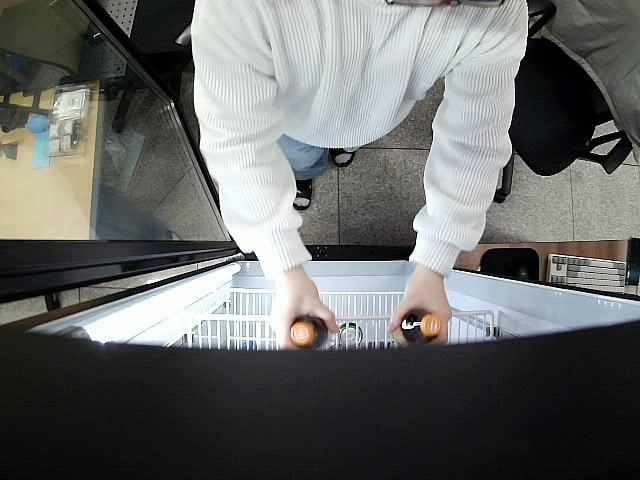17_vita500: (389, 309, 442, 346), (290, 314, 330, 351)
